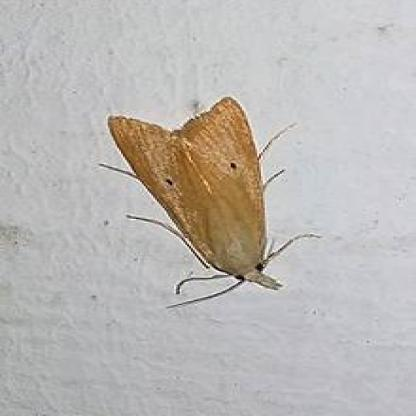stem-borer: (93, 92, 322, 312)
